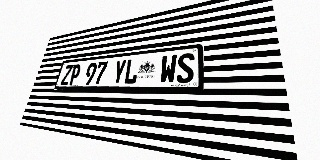7: (93, 61, 108, 85)
9: (83, 62, 98, 85)
L: (123, 58, 140, 84)
P: (68, 64, 82, 85)
S: (176, 52, 195, 83)
W: (159, 54, 177, 83)
Y: (111, 59, 127, 84)
Z: (60, 65, 73, 85)
